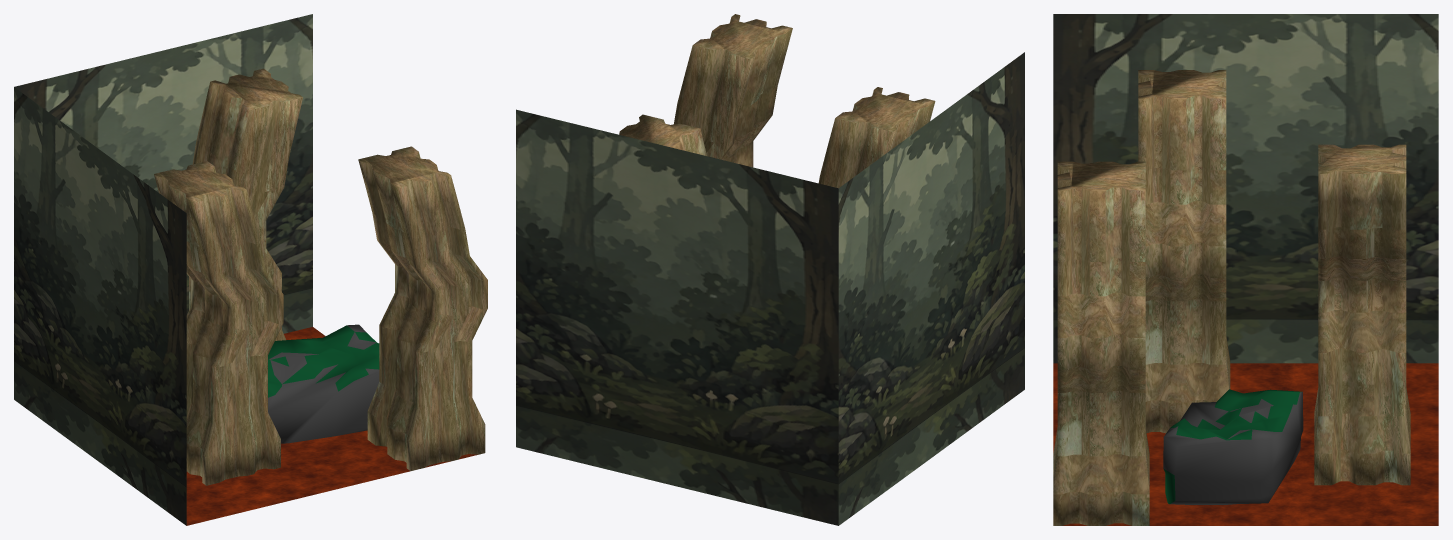
Rendered from forest cube2.glb.
The picture shows the model from 3 angles, left to right: view 1: azimuth 30°, elevation 25°; view 2: azimuth 150°, elevation 25°; view 3: azimuth 270°, elevation 25°; orthographic projection. The views are drawn at different scales.
Visible parts, largest first — view 1: wall, Cube, Cube.003, Cube.001, Cube.002; view 2: wall, Cube, Cube.003, Cube.001; view 3: wall, Cube, Cube.001, Cube.003, Cube.002.
Boxes of the visible parts, bbox=[...] form: wall: bbox=[14, 14, 477, 525]; Cube: bbox=[358, 146, 487, 470]; Cube.003: bbox=[154, 161, 283, 485]; Cube.001: bbox=[189, 68, 302, 340]; Cube.002: bbox=[268, 324, 379, 443]; wall: bbox=[516, 52, 1024, 525]; Cube: bbox=[674, 14, 792, 167]; Cube.003: bbox=[818, 87, 935, 188]; Cube.001: bbox=[619, 114, 706, 155]; wall: bbox=[1053, 14, 1438, 525]; Cube: bbox=[1053, 161, 1149, 525]; Cube.001: bbox=[1314, 144, 1410, 485]; Cube.003: bbox=[1138, 70, 1230, 433]; Cube.002: bbox=[1163, 389, 1303, 504].
Bounding box in the file's own units: 2.03 × 2.08 × 2.
5 materials, 3 textured.
